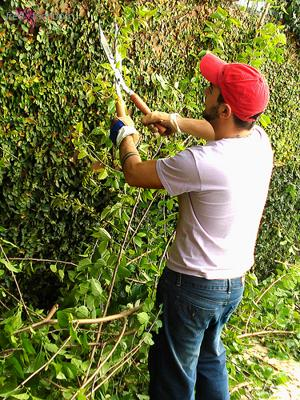person: (111, 51, 278, 400)
